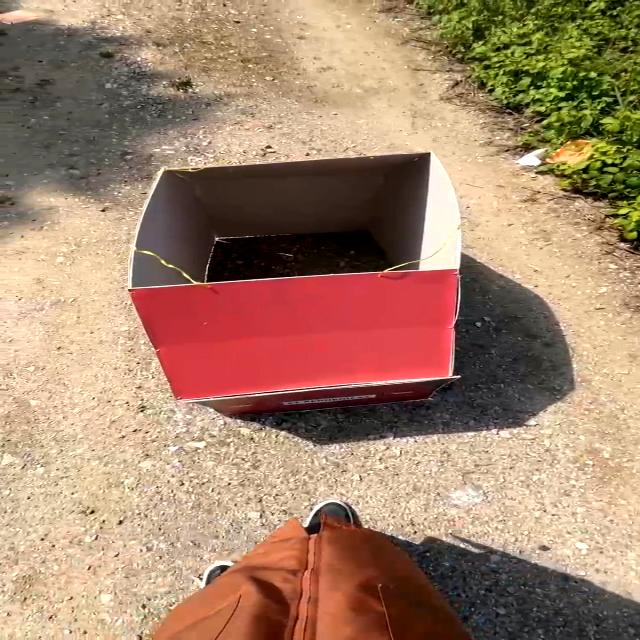red_car: (114, 117, 479, 424)
